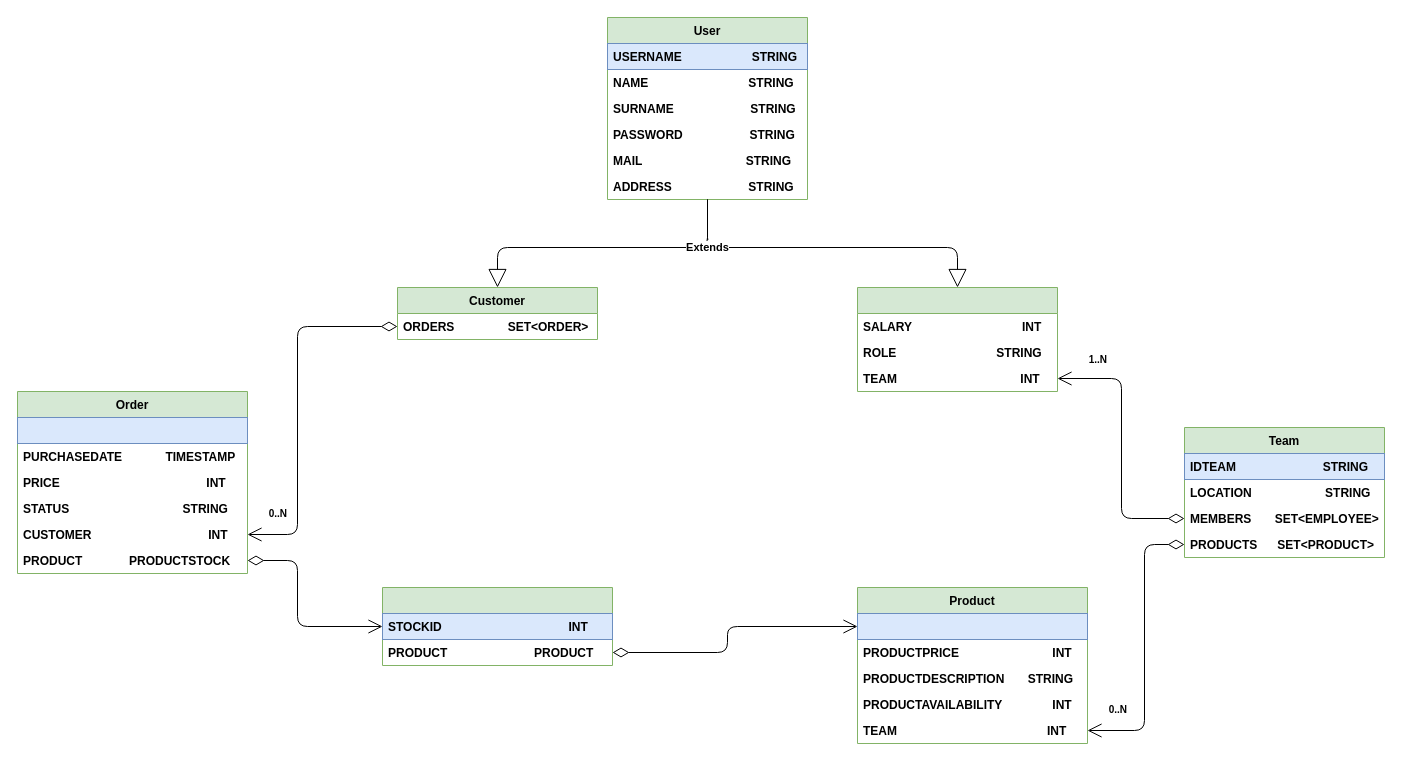
Image size: 1402x765. Some labels were removed from this diagram. Here are the shapes that lost their labels. From the top down, the box of each, then its label:
(856, 286, 1058, 392): Employee
(16, 416, 248, 444): IDORDER INT
(382, 586, 612, 666): ProductStock
(856, 612, 1088, 640): PRODUCTNAME STRING
